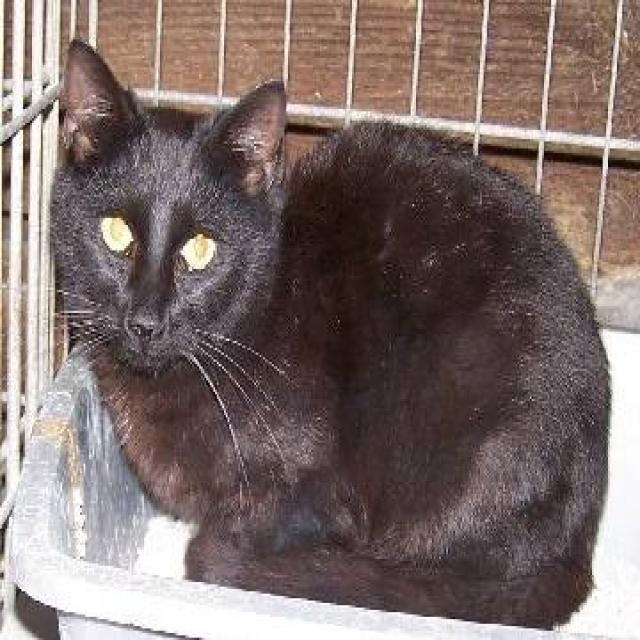cat: (48, 35, 612, 631)
